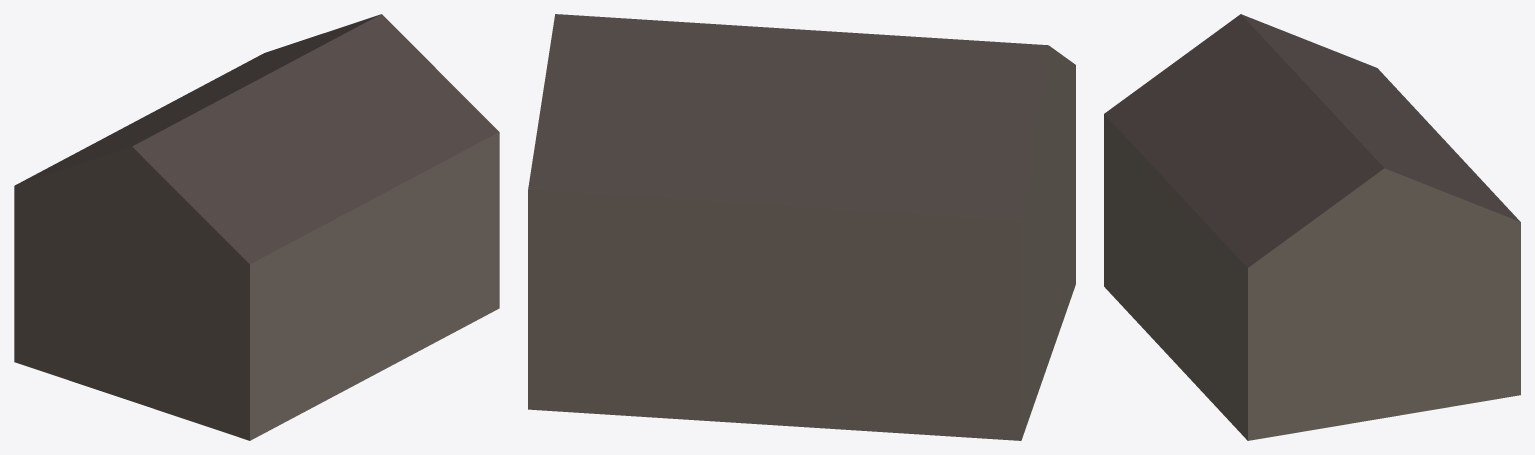
3 renders of one model, left to right at view 1: azimuth 30°, elevation 25°; view 2: azimuth 150°, elevation 25°; view 3: azimuth 270°, elevation 25°, orthographic. The views are drawn at different scales.
Parts seen in each view (by area): view 1: HP-w1287936347; view 2: HP-w1287936347; view 3: HP-w1287936347.
Boxes of the visible parts, x1,y1,x2,y2 form: HP-w1287936347: [14, 14, 499, 440]; HP-w1287936347: [528, 14, 1075, 440]; HP-w1287936347: [1104, 14, 1520, 440].
Bounding box in the file's own units: 14.9 × 8.67 × 13.12.
